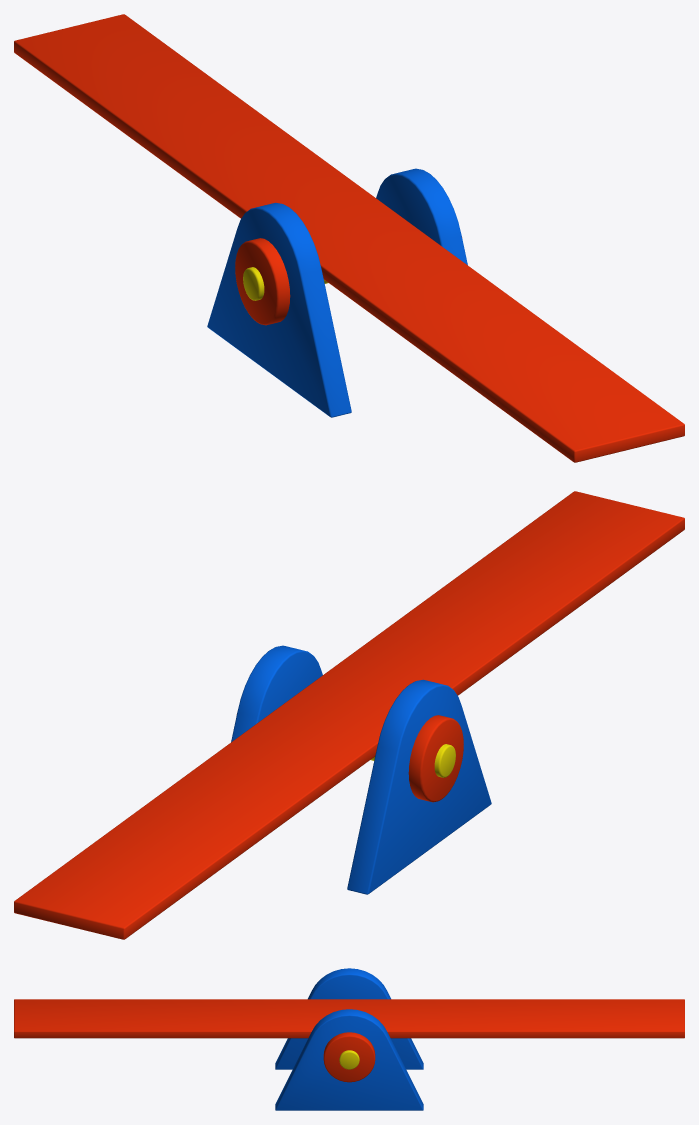
Rendered from SeeSaw.fbx.
3 renders of one model, top to bottom at view 1: azimuth 30°, elevation 25°; view 2: azimuth 150°, elevation 25°; view 3: azimuth 270°, elevation 25°, orthographic. The views are drawn at different scales.
Visible parts, largest first — view 1: Platform, SeeSaw; view 2: Platform, SeeSaw; view 3: Platform, SeeSaw, Pivot.
Boxes of the visible parts, x1,y1,x2,y2 form: Platform: (14, 14, 684, 462); SeeSaw: (207, 168, 467, 417); Platform: (14, 491, 684, 939); SeeSaw: (231, 645, 491, 894); Platform: (14, 999, 684, 1038); SeeSaw: (275, 968, 423, 1110); Pivot: (339, 1050, 359, 1069).
Bounding box in the file's own units: 733 × 569 × 3608.
